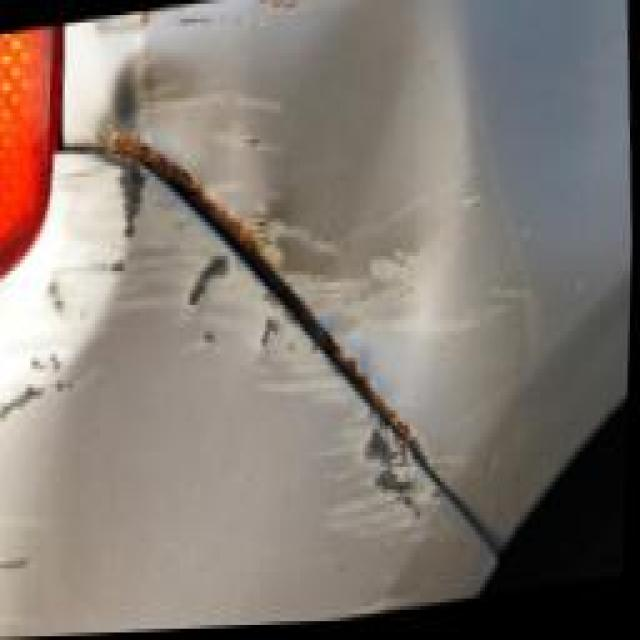Bumper: (0, 154, 505, 639)
Fender: (60, 0, 606, 582)
